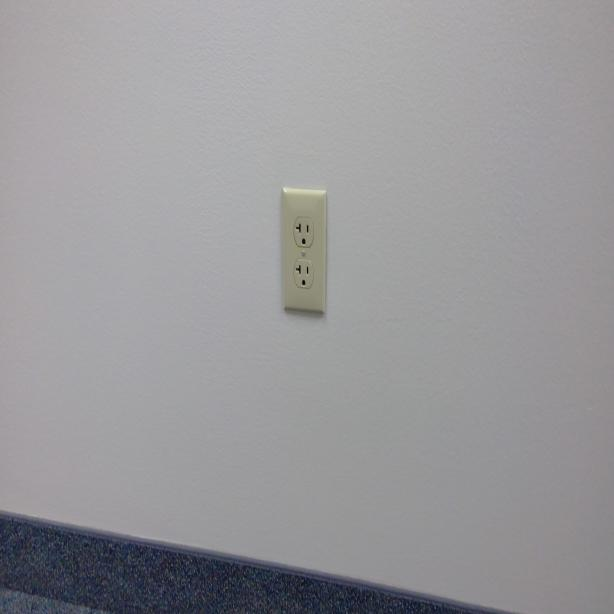typeb: (293, 256, 315, 294), (292, 214, 315, 249)
